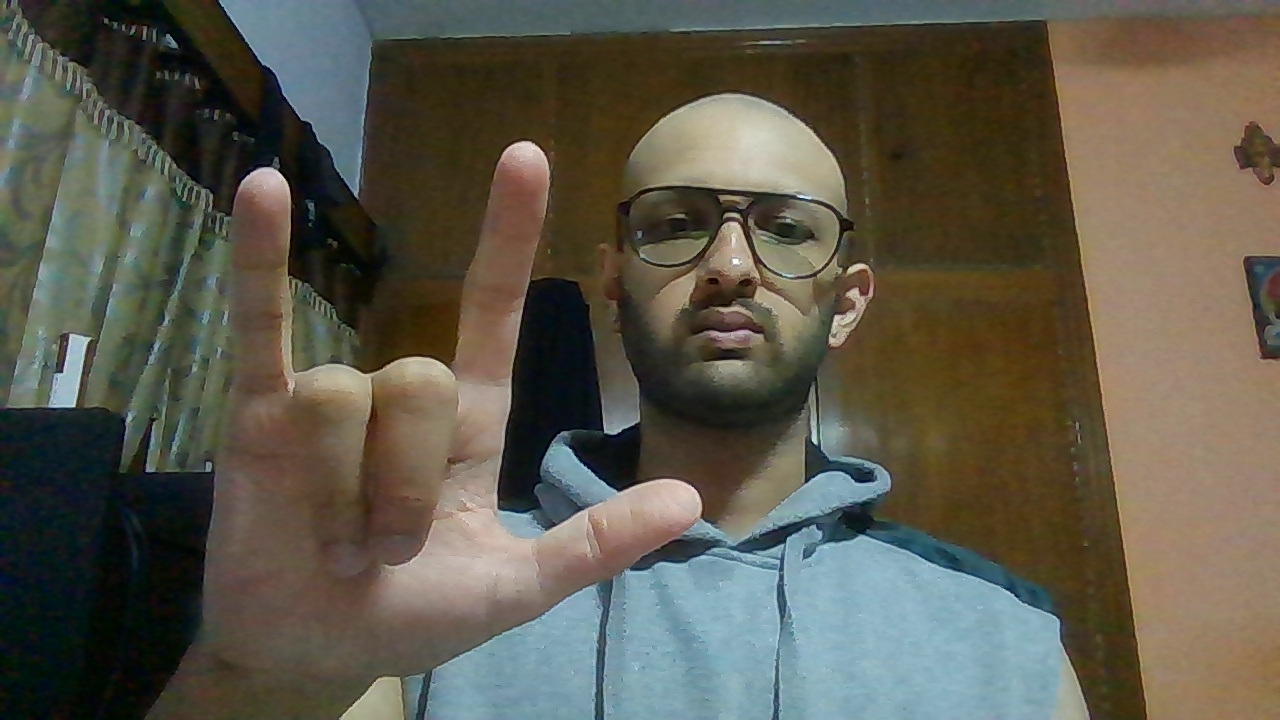I Love You: (202, 141, 707, 673)
